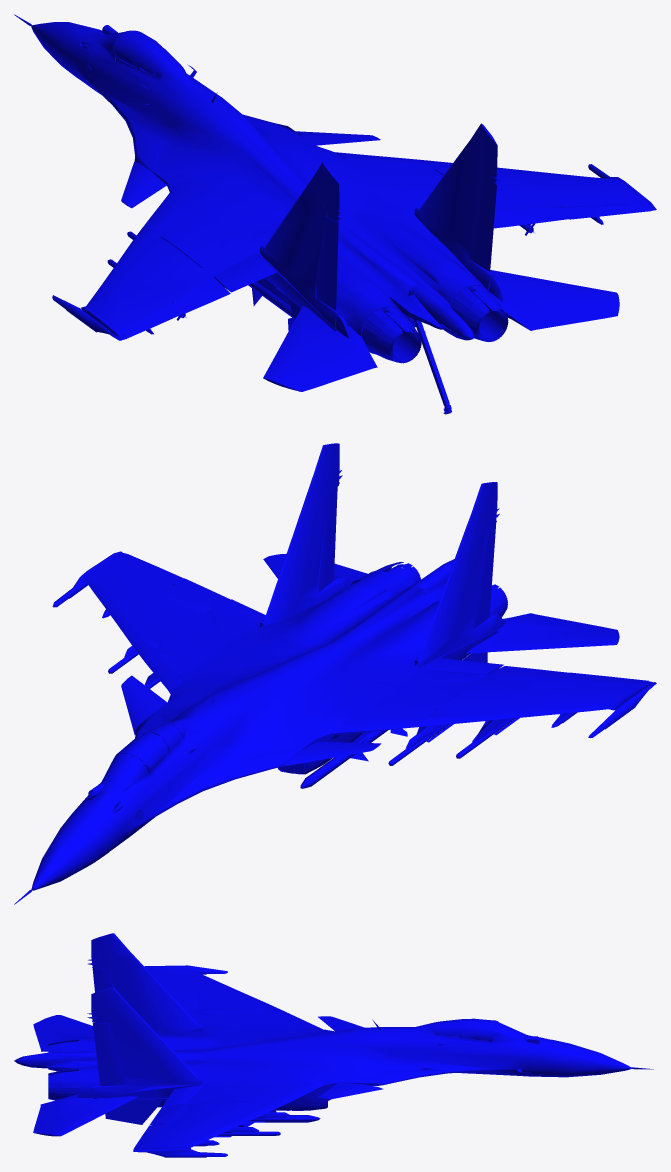
The model's file is blue-16.glb.
The picture shows the model from 3 angles, top to bottom: view 1: azimuth 30°, elevation 25°; view 2: azimuth 150°, elevation 25°; view 3: azimuth 270°, elevation 25°; orthographic projection. The views are drawn at different scales.
Visible parts, largest first — view 1: pl12__GenericProjectile02; view 2: pl12__GenericProjectile02; view 3: pl12__GenericProjectile02.
Boxes of the visible parts, <box> form: pl12__GenericProjectile02: <box>14,14,656,414</box>; pl12__GenericProjectile02: <box>14,443,656,904</box>; pl12__GenericProjectile02: <box>14,933,653,1157</box>.
Size of the model in its own units: 14.54 by 6.11 by 21.4.
